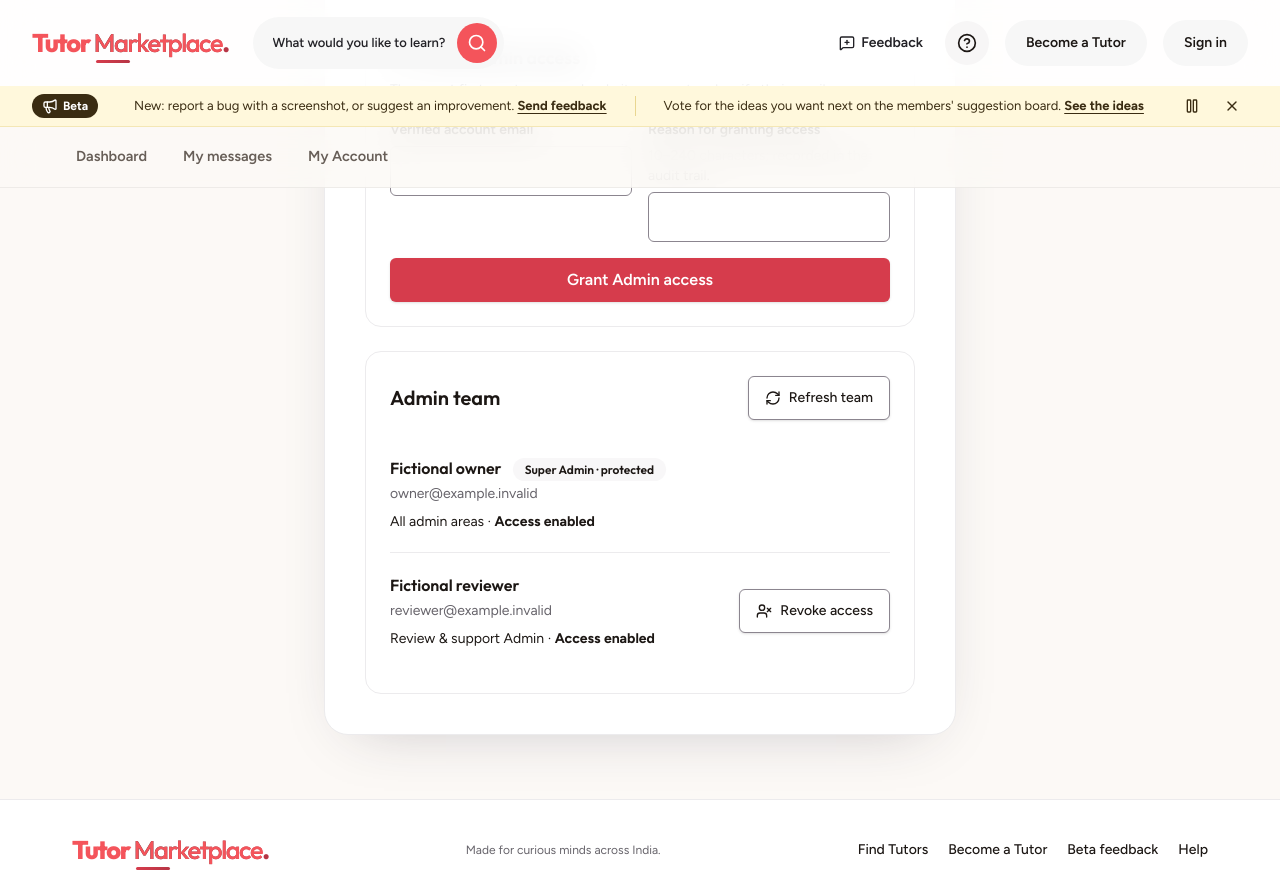
Test: revocation requires an explicit confirmation reason and refreshes the current access status
The image size is (1280, 892).
(page scrolled)
Click the button "Revoke access" at (815, 611), box [739,589,890,633]
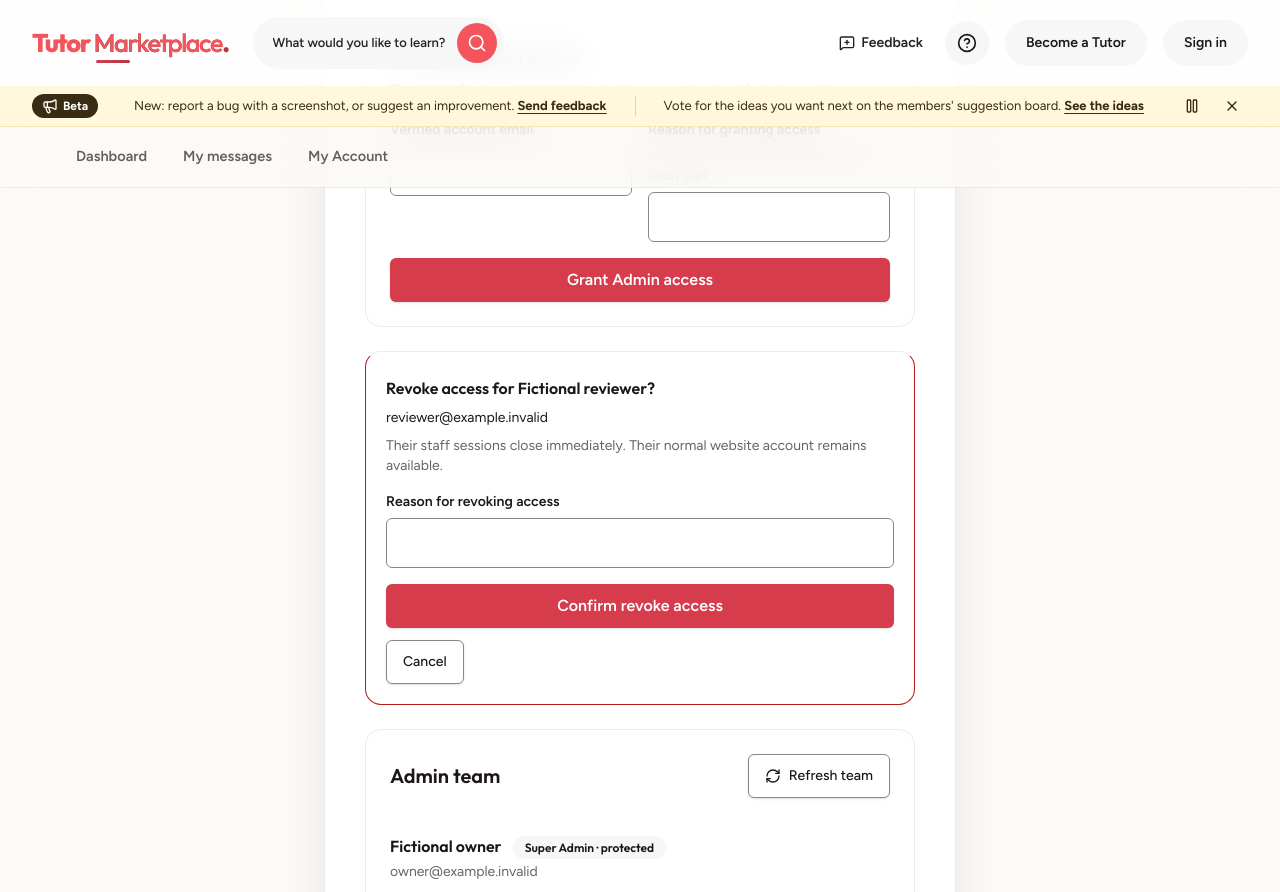
Type "Review assignment completed" into the field labelled "Reason for revoking access" at (640, 543), box [386,518,894,568]
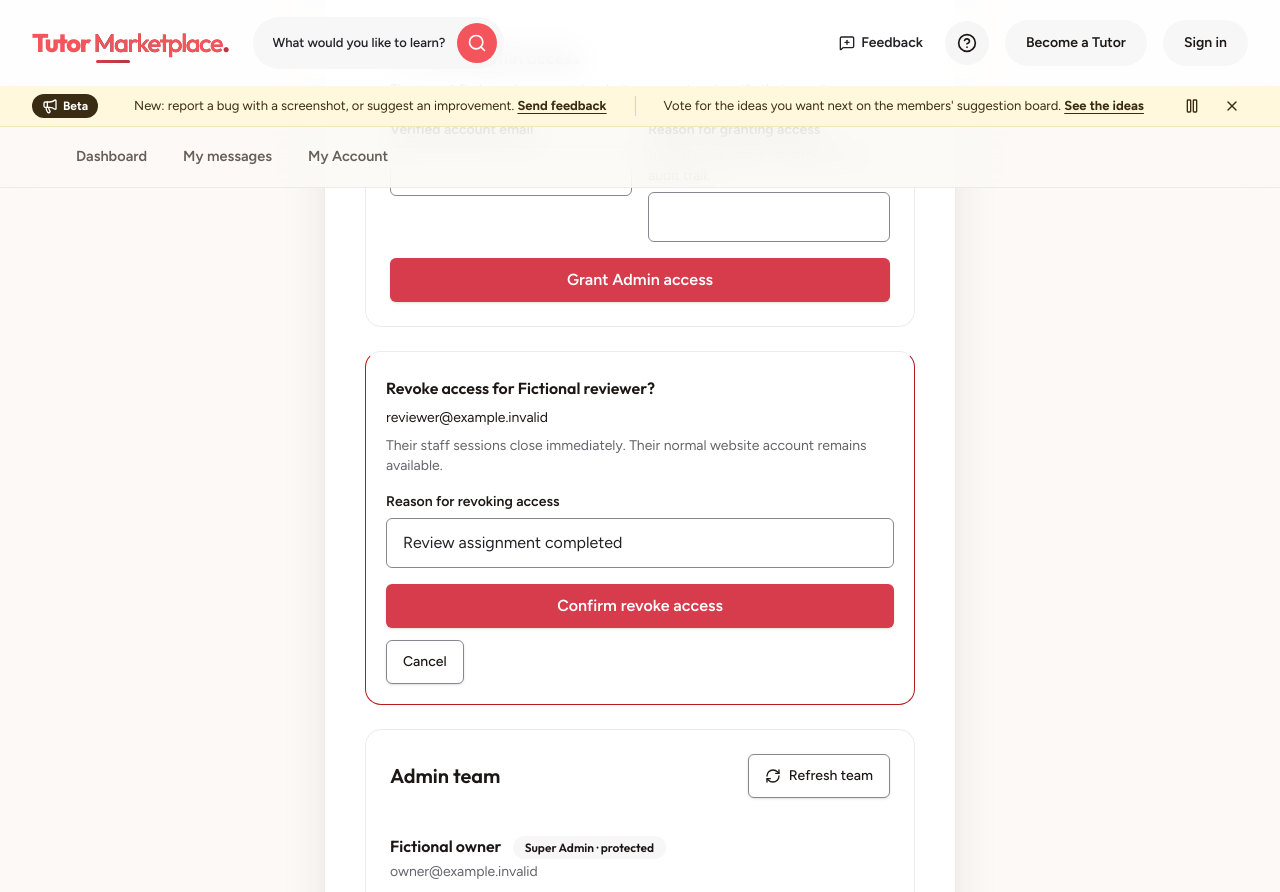
Submit the form labelled "Reason for revoking access", box [386,492,894,684]
(page scrolled)
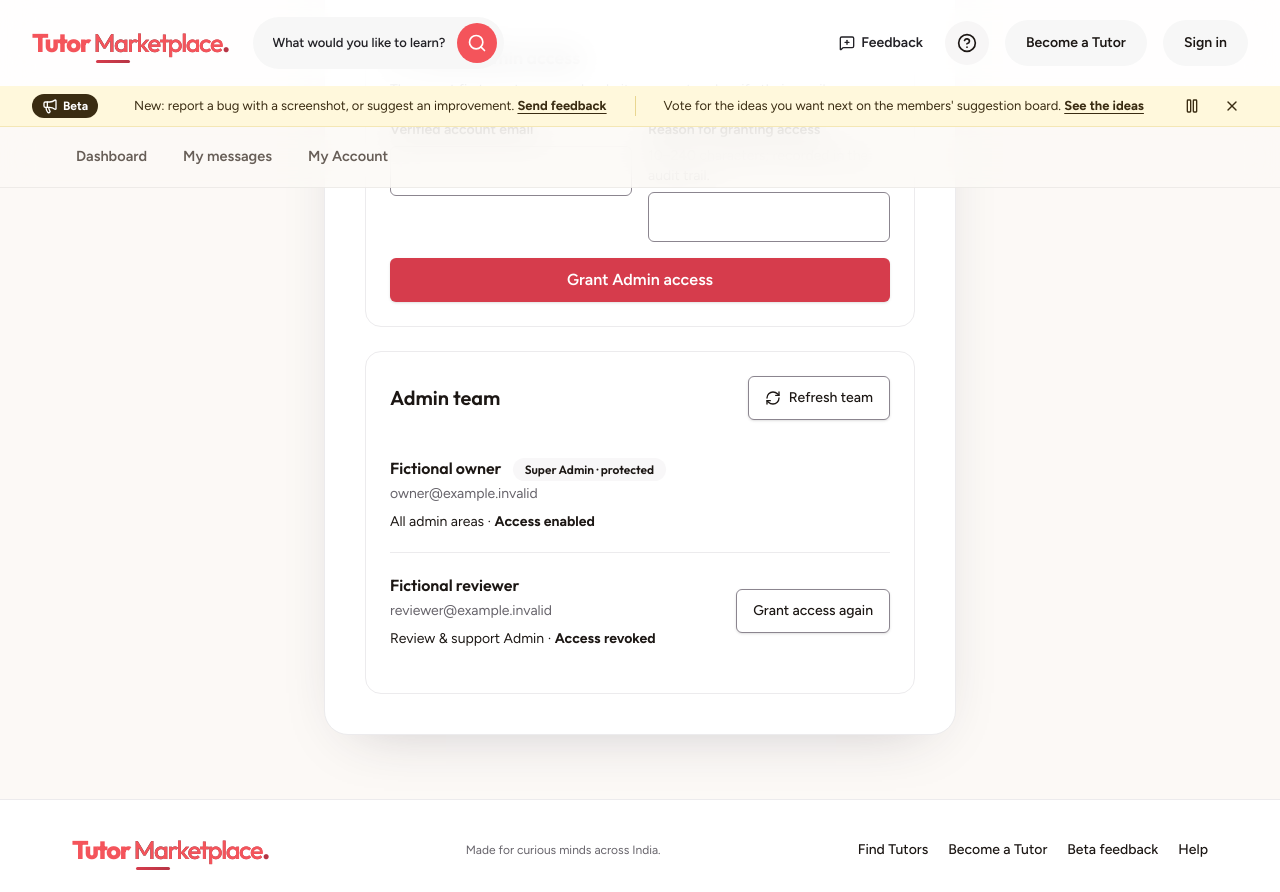
Expected: the text "Access revoked" is shown, [555,630,656,647]
Expected: the heading "Revoke access" is gone
